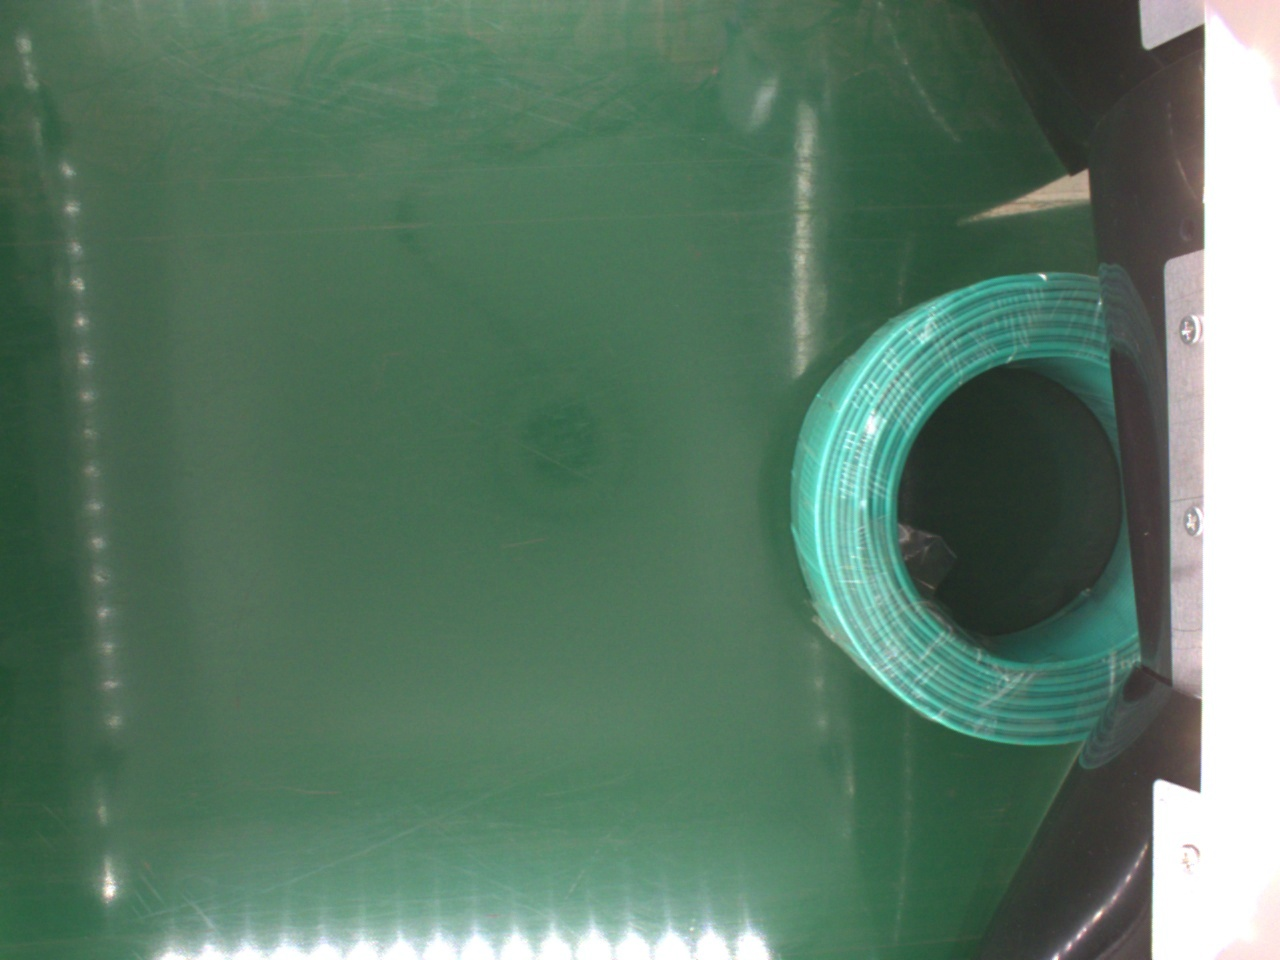green: (788, 275, 1137, 748)
